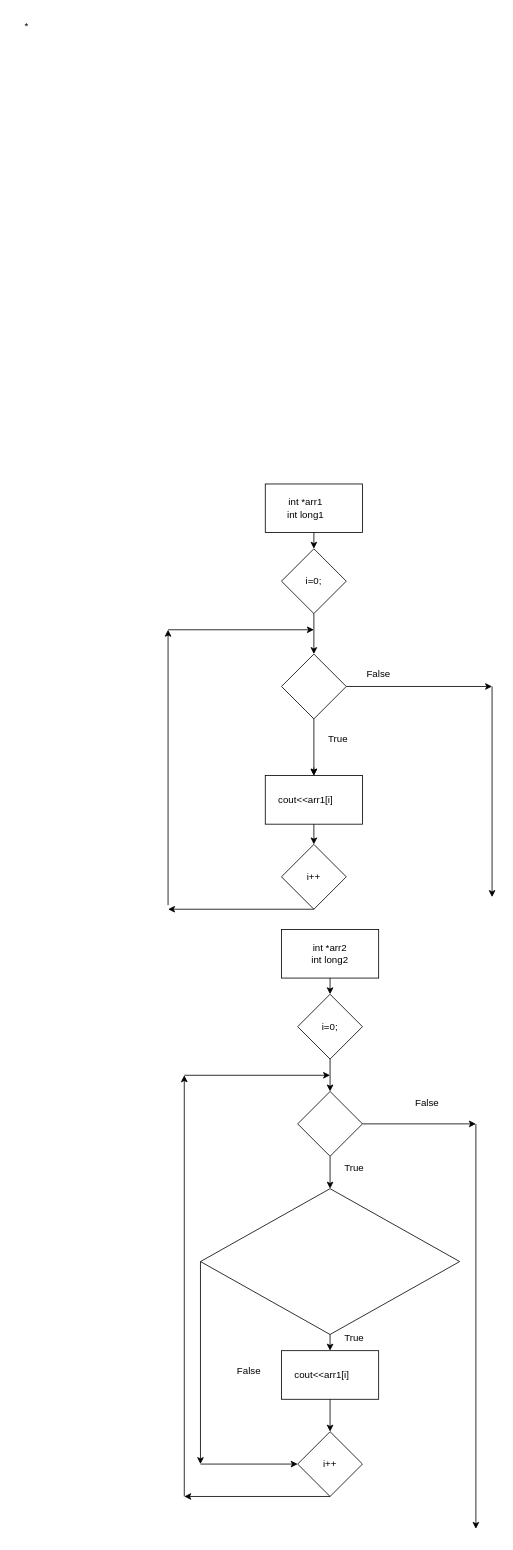
Some shapes in this 513 by 1550 pixel diagram are drawn without their labels. Here are the shapes that lost their labels. From the top down, the centre of each, then its label:
At pixel 313 686: "i<long1;".
At pixel 329 1123: "i<long2;".
At pixel 330 1261: "search_colvo (arr2[i],arr1,long1) == 0".
